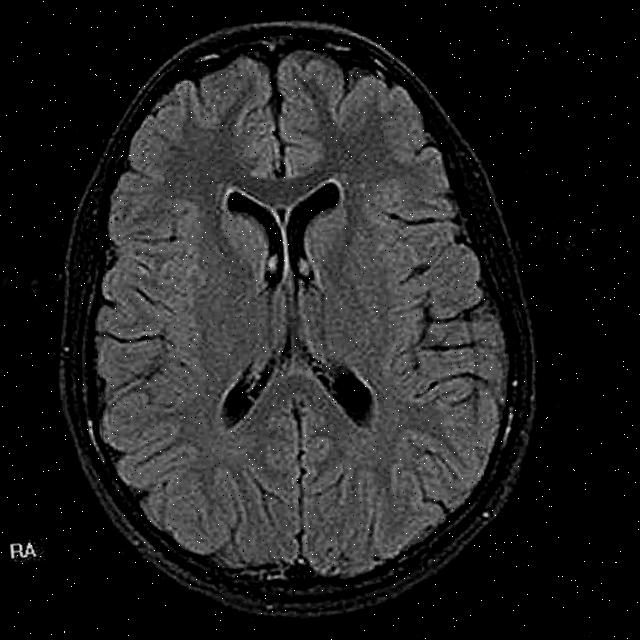NoTumor: (0, 1, 591, 640)
